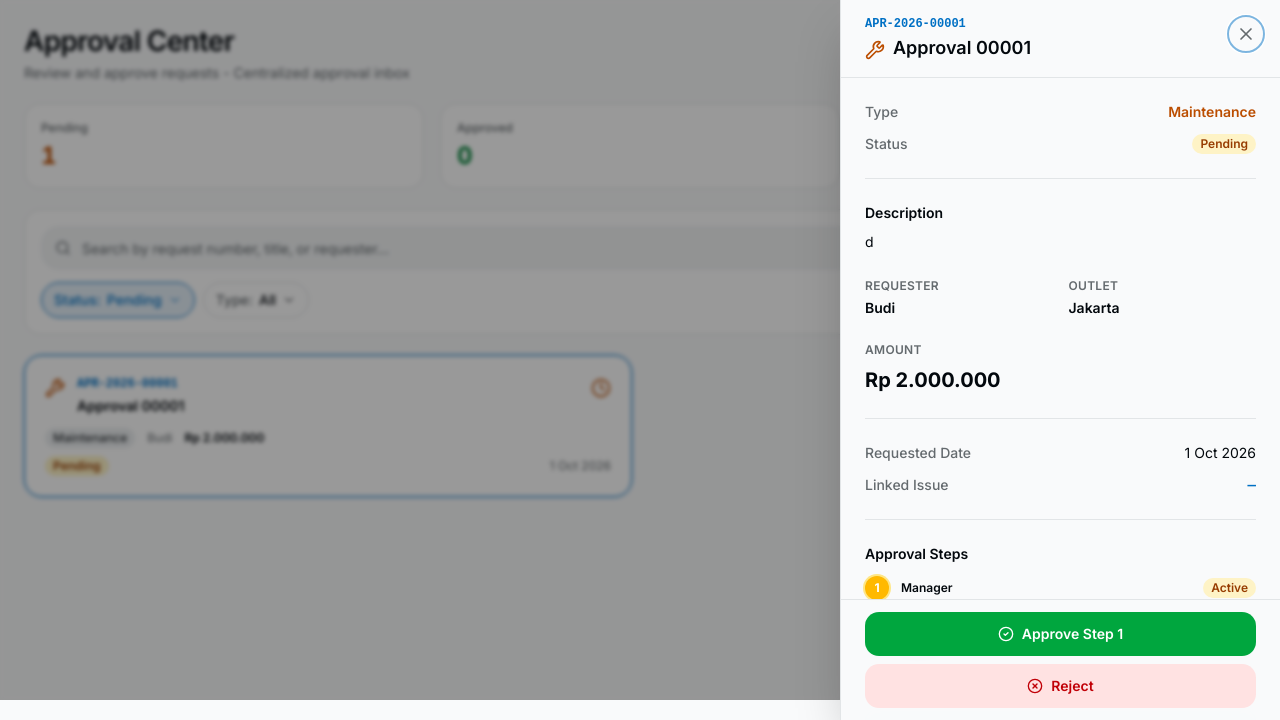
Test: ApprovalCenterPage — confirm before deciding (Todo-Pilot §23) › rejecting can be called off
The width and height of the screenshot is (1280, 720).
Later steps or results of the test are not shown.
What coordinates should you click on to do the following:
click the button "Reject"
I would click on:
 (1060, 686)
Its box is [865,664,1256,708].
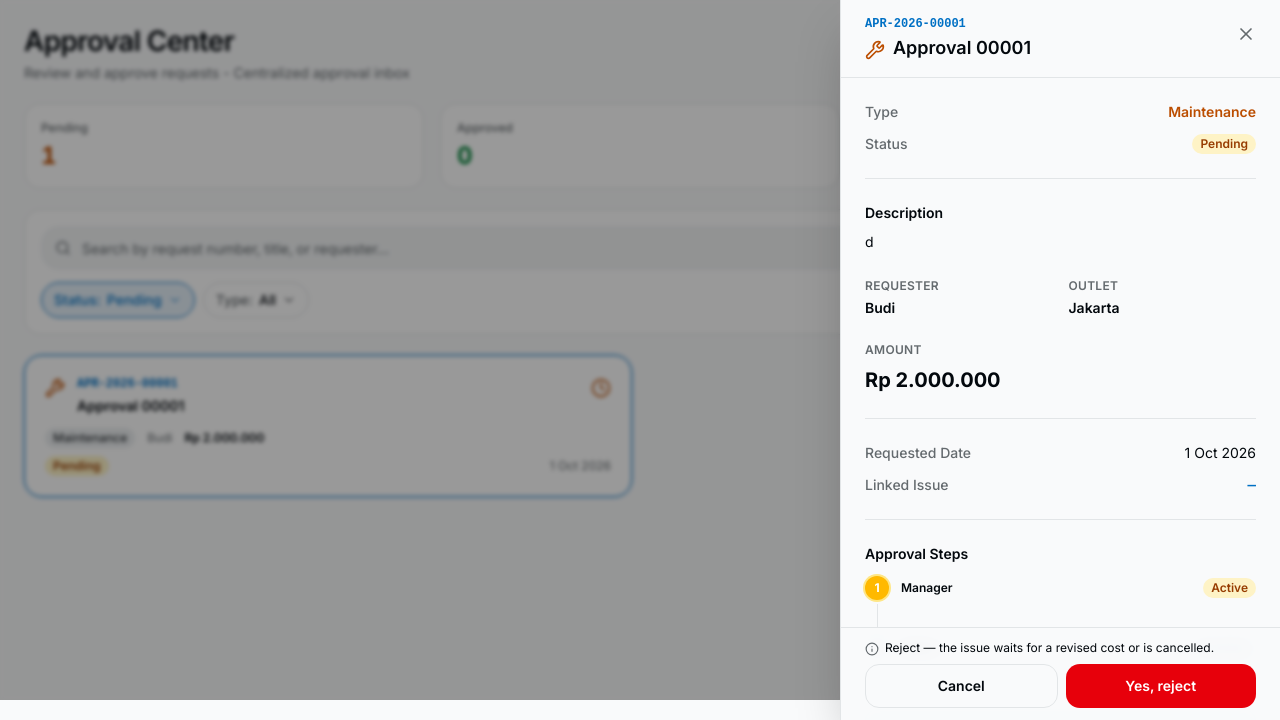
Expected: the text "Reject — the issue waits for a revised cost or is cancelled." is shown, [865,640,1256,656]
